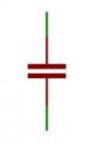Capacitor: (20, 45, 77, 94)
